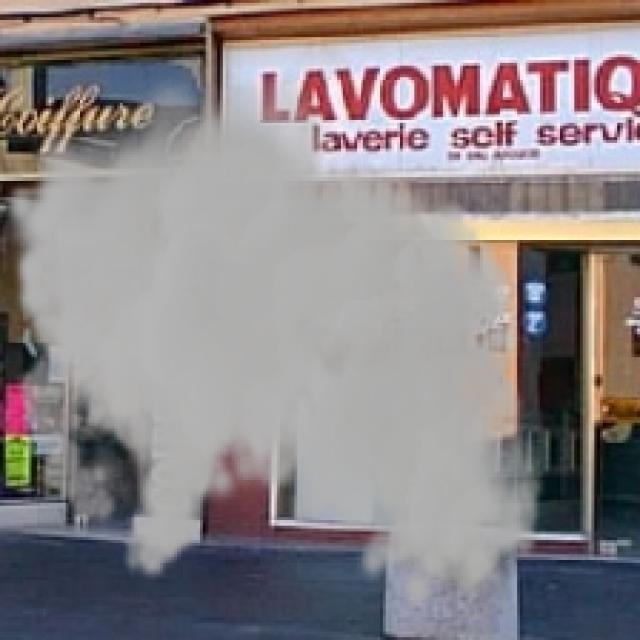Smoke: (0, 57, 546, 614)
